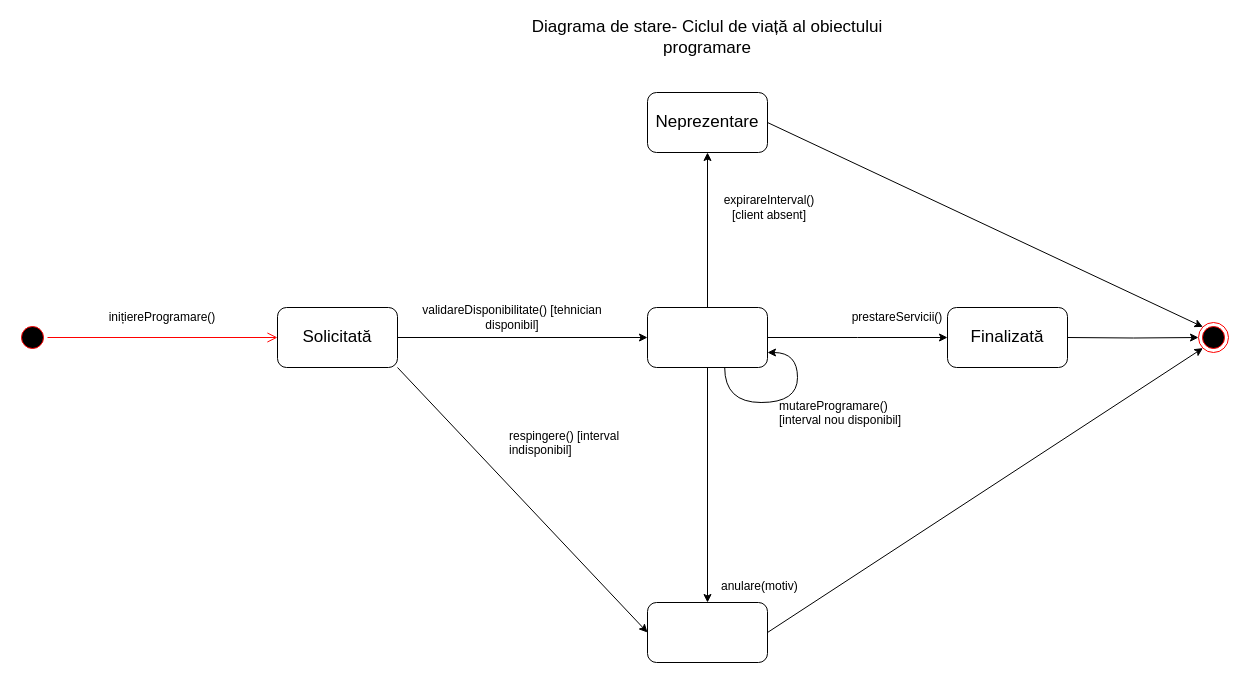
This 1246x680 diagram has some shape labels left out. Here are the shapes that lost their labels. From the top down, the centre of each, then its label:
(x=707, y=337): Confirmată
(x=707, y=632): Anulată
